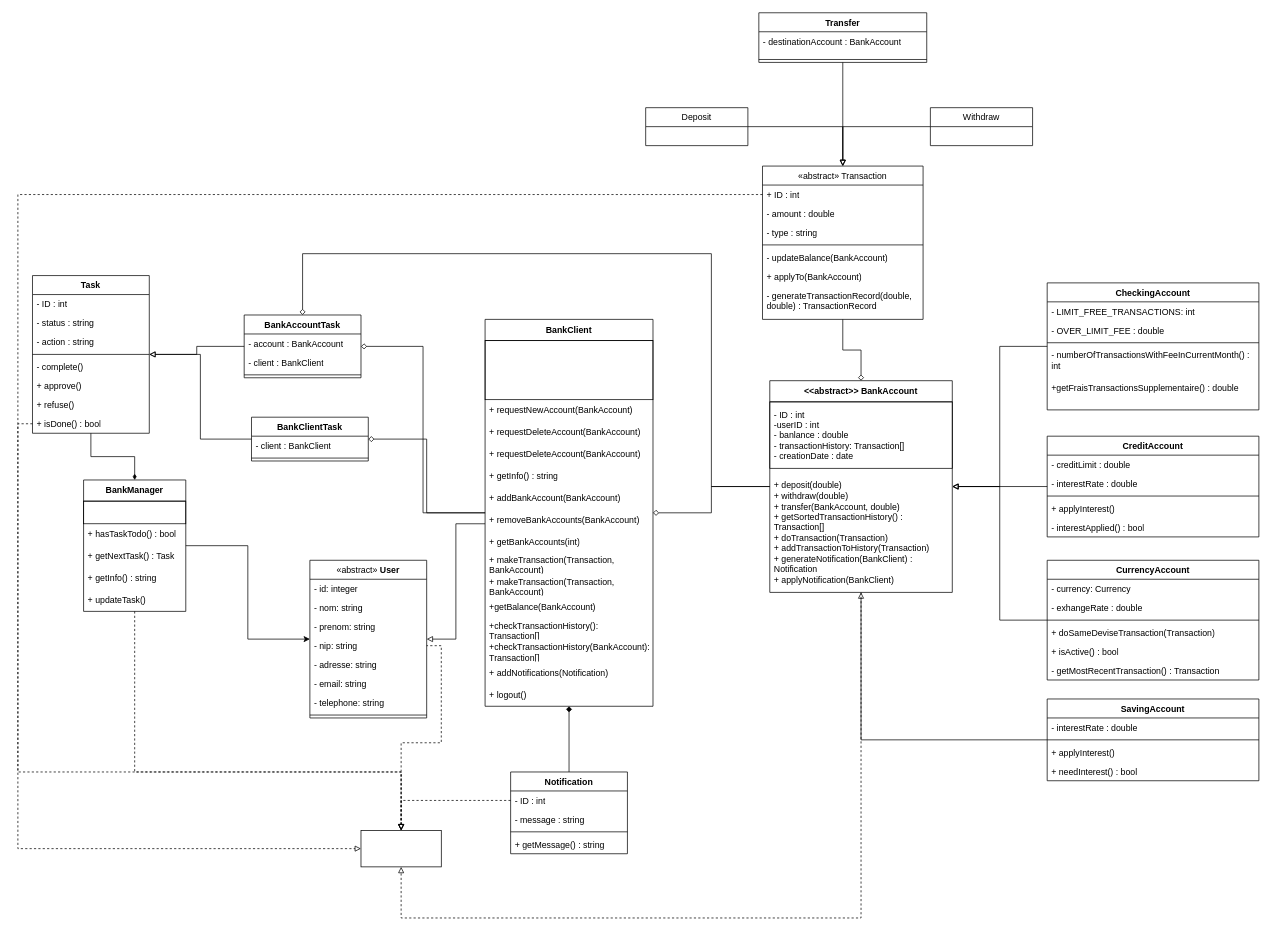
This 1272x937 diagram has some shape labels left out. The shapes that lost their labels are listed below. From the top down, each one's centre as x and y in pixels, then its label:
At pixel 568 370: "- List<BankAccount> comptes - List<Notifications> notifications".
At pixel 134 512: "- role : string".
At pixel 400 848: "«interface» Identifiable".
